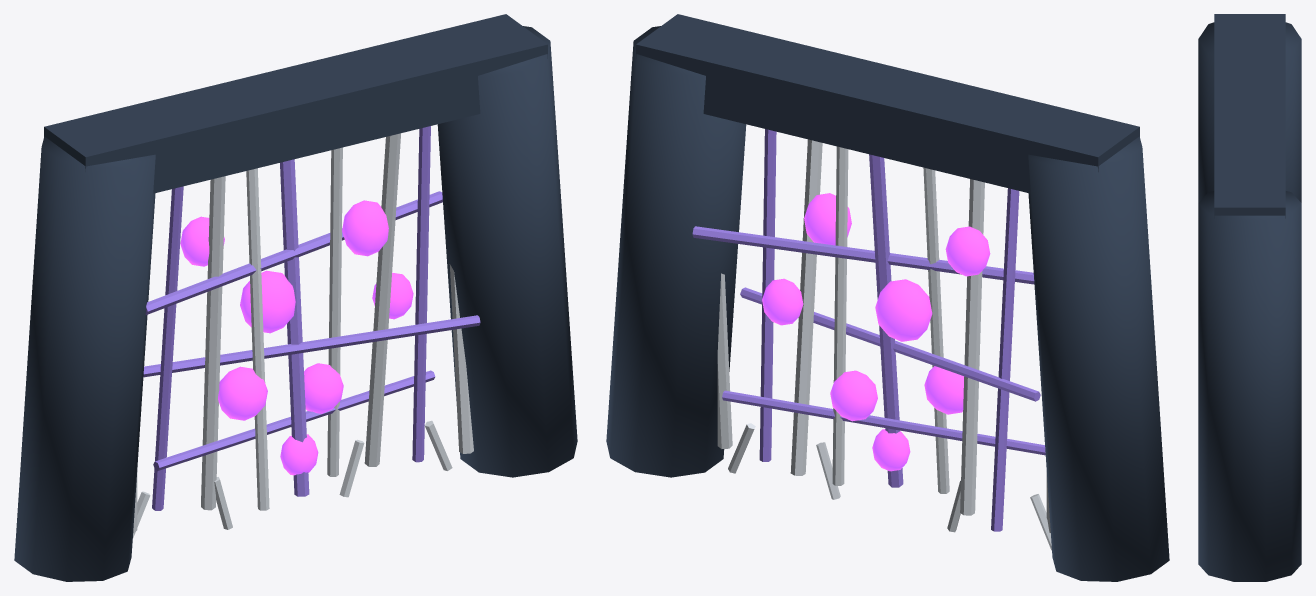
Rendered from cortina_micelio.glb.
The picture shows the model from 3 angles, left to right: view 1: azimuth 30°, elevation 25°; view 2: azimuth 150°, elevation 25°; view 3: azimuth 270°, elevation 25°; orthographic projection. The views are drawn at different scales.
Parts seen in each view (by area): view 1: Cylinder, Cylinder.001, Cube, Cylinder.004, Cylinder.008, Cylinder.006, Cylinder.009, Cylinder.005, Cylinder.003, Cylinder.007, Cylinder.012, Cylinder.011 (+9 smaller); view 2: Cylinder, Cylinder.001, Cube, Cylinder.004, Cylinder.008, Cylinder.003, Cylinder.006, Cylinder.007, Cylinder.011, Cylinder.009, Cylinder.005, Cylinder.013 (+9 smaller); view 3: Cylinder.001, Cube, Cylinder.
Boxes of the visible parts, left/top/right/bottom form: Cylinder: left=14, top=136, right=155, bottom=581; Cylinder.001: left=437, top=26, right=577, bottom=477; Cube: left=44, top=14, right=547, bottom=193; Cylinder.004: left=201, top=176, right=225, bottom=510; Cylinder.008: left=364, top=133, right=400, bottom=466; Cylinder.006: left=280, top=159, right=309, bottom=496; Cylinder.009: left=412, top=126, right=430, bottom=462; Cylinder.005: left=246, top=168, right=269, bottom=510; Cylinder.003: left=152, top=186, right=183, bottom=510; Cylinder.007: left=327, top=147, right=342, bottom=476; Cylinder.012: left=143, top=315, right=480, bottom=377; Cylinder.011: left=145, top=191, right=442, bottom=314; Cylinder: left=1028, top=136, right=1169, bottom=581; Cylinder.001: left=606, top=26, right=746, bottom=477; Cube: left=636, top=14, right=1139, bottom=193; Cylinder.004: left=960, top=179, right=984, bottom=515; Cylinder.008: left=790, top=139, right=822, bottom=475; Cylinder.003: left=991, top=188, right=1019, bottom=531; Cylinder.006: left=869, top=154, right=903, bottom=487; Cylinder.007: left=832, top=146, right=848, bottom=485; Cylinder.011: left=692, top=226, right=1034, bottom=284; Cylinder.009: left=759, top=129, right=776, bottom=461; Cylinder.005: left=923, top=167, right=949, bottom=493; Cylinder.013: left=722, top=390, right=1045, bottom=455; Cylinder.001: left=1198, top=191, right=1301, bottom=581; Cube: left=1214, top=14, right=1285, bottom=218; Cylinder: left=1198, top=22, right=1301, bottom=202.
Size of the model in its own units: 3.77 by 2.83 by 0.72.
